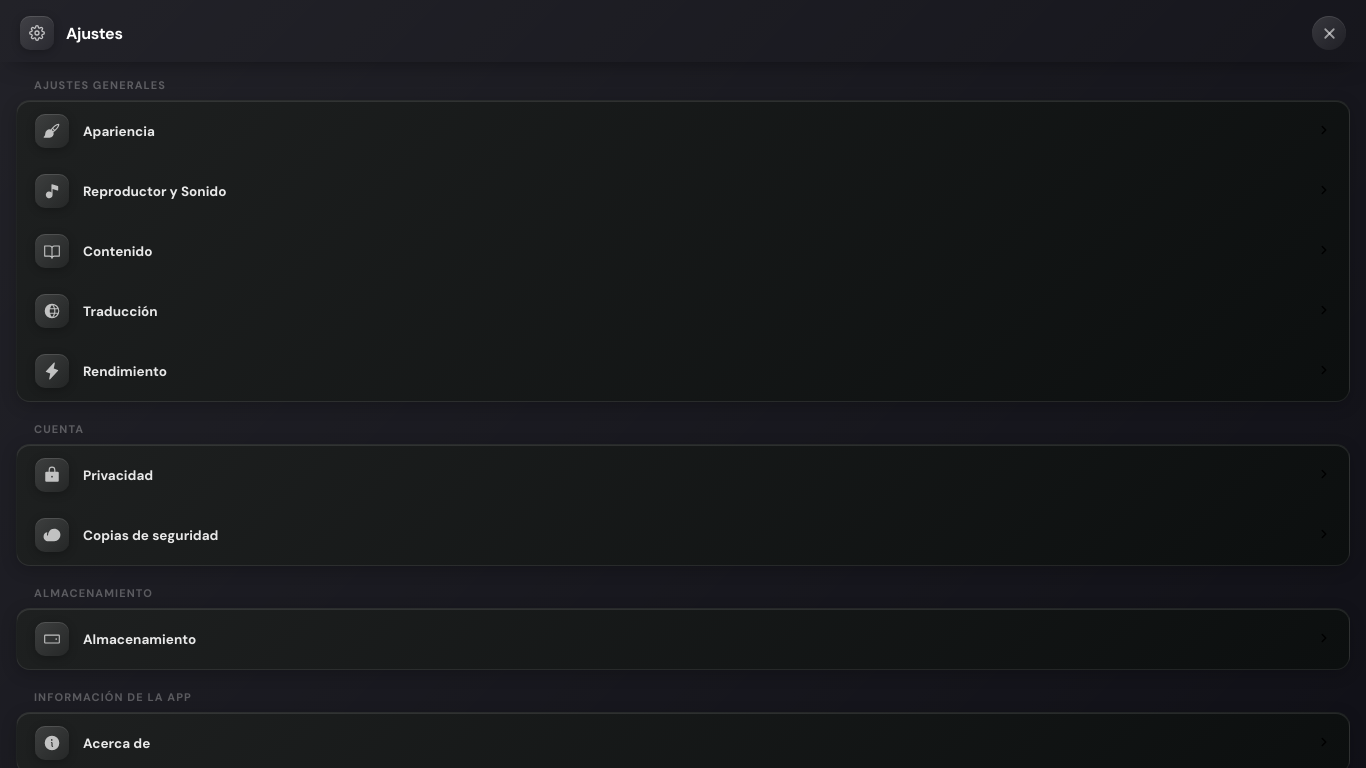
Test case: SettingsPanel › should navigate to privacy page when clicked
Click the text "Privacidad".
click(118, 475)  # box [83, 466, 153, 484]
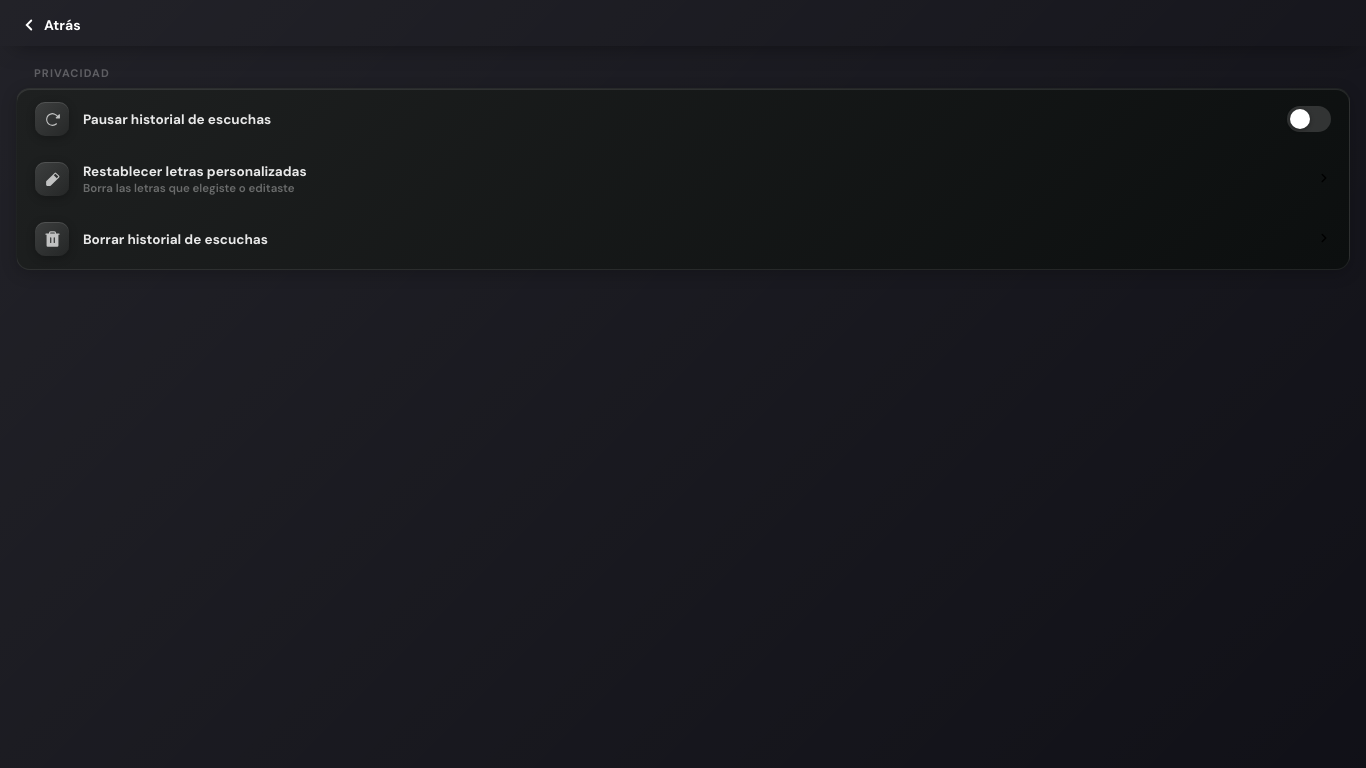
Expected: the text "Pausar historial de escuchas" is shown, [83, 110, 271, 128]
